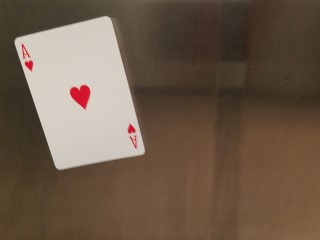AceOfHearts: (14, 14, 147, 171)
